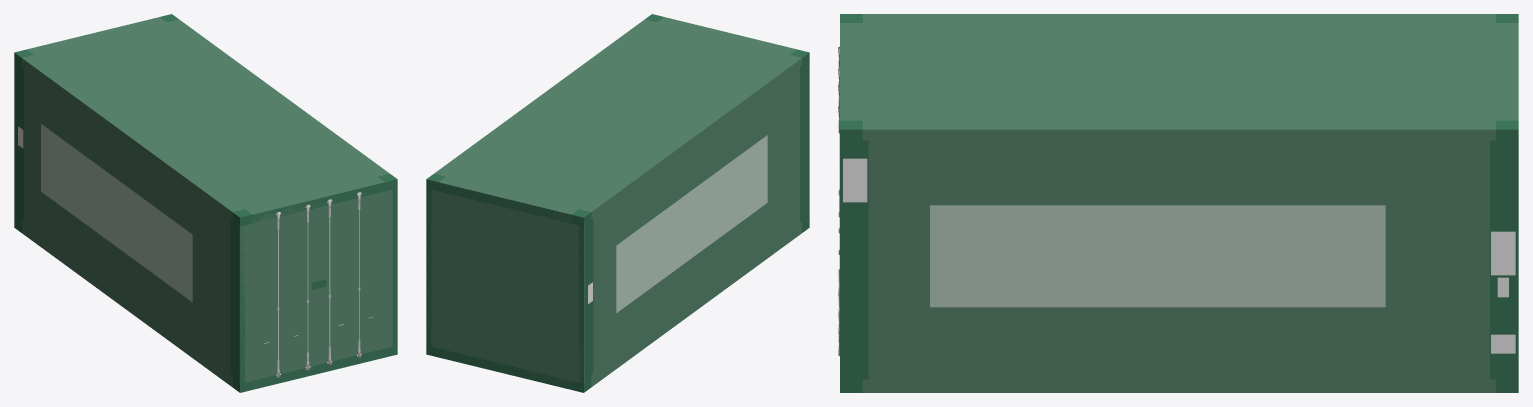
File: s_containers_20_okudai.dae
3 renders of one model, left to right at view 1: azimuth 30°, elevation 25°; view 2: azimuth 150°, elevation 25°; view 3: azimuth 270°, elevation 25°, orthographic. The views are drawn at different scales.
Parts seen in each view (by area): view 1: s_containers_20_okudai_a20, s_containers_20_okudai_a700, s_containers_20_okudai_a80, s_containers_20_okudai_a300; view 2: s_containers_20_okudai_a20, s_containers_20_okudai_a80, s_containers_20_okudai_a700, s_containers_20_okudai_a300; view 3: s_containers_20_okudai_a20, s_containers_20_okudai_a700, s_containers_20_okudai_a300, s_containers_20_okudai_a80.
Boxes of the visible parts, left/top/right/bottom form: s_containers_20_okudai_a20: left=14, top=17, right=396, bottom=389; s_containers_20_okudai_a700: left=14, top=14, right=397, bottom=392; s_containers_20_okudai_a80: left=240, top=182, right=397, bottom=389; s_containers_20_okudai_a300: left=14, top=14, right=397, bottom=392; s_containers_20_okudai_a20: left=426, top=17, right=809, bottom=388; s_containers_20_okudai_a80: left=426, top=182, right=583, bottom=389; s_containers_20_okudai_a700: left=426, top=14, right=809, bottom=392; s_containers_20_okudai_a300: left=426, top=14, right=809, bottom=392; s_containers_20_okudai_a20: left=840, top=14, right=1518, bottom=392; s_containers_20_okudai_a700: left=838, top=14, right=1518, bottom=392; s_containers_20_okudai_a300: left=839, top=14, right=1518, bottom=392; s_containers_20_okudai_a80: left=840, top=143, right=1518, bottom=392.
Bounding box in the file's own units: 2.52 × 6.07 × 2.6.
